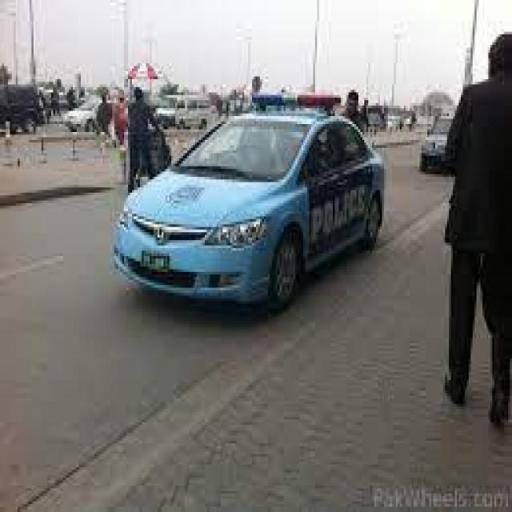Ambulance: (118, 86, 390, 312)
